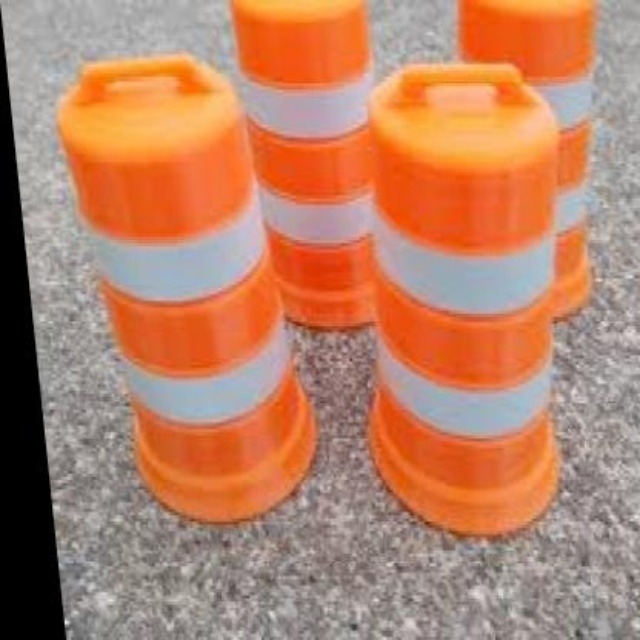obstacle: (326, 64, 593, 547), (53, 58, 312, 525)
